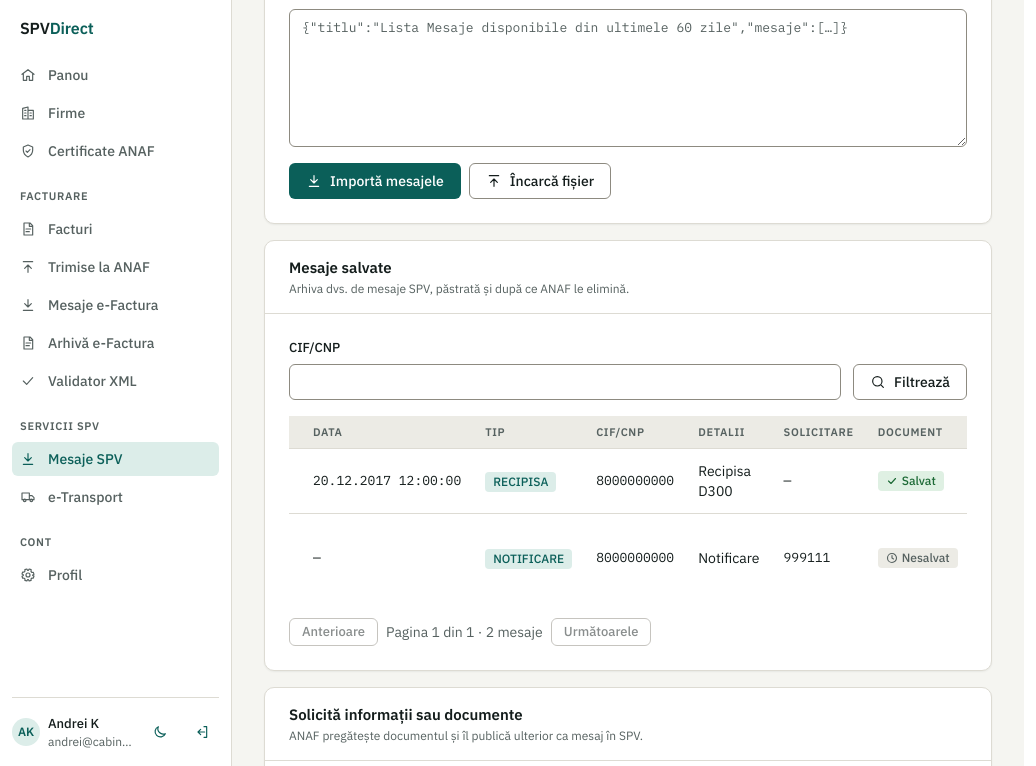
Test: Mesaje SPV › filters the archive by CIF
This screenshot has width=1036, height=766.
(page scrolled)
Type "800 000 0000" into the field labelled "CIF/CNP" at (565, 382), box [289,364,841,400]
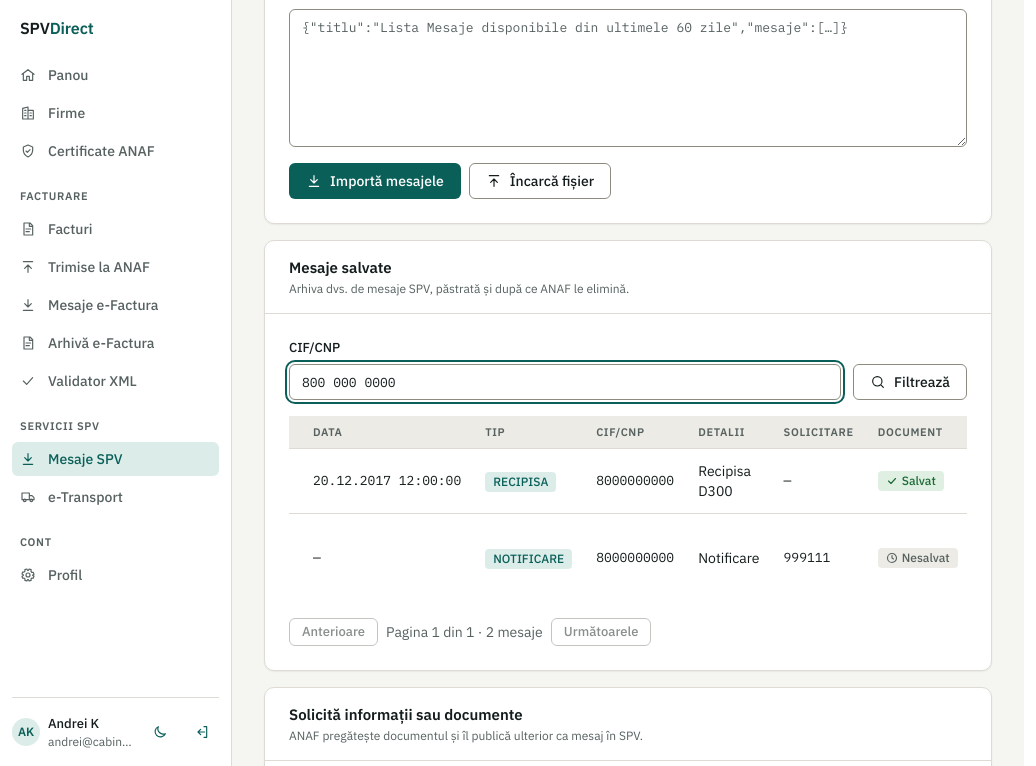
Click the button "Filtrează" at (910, 382), box [853,364,967,400]
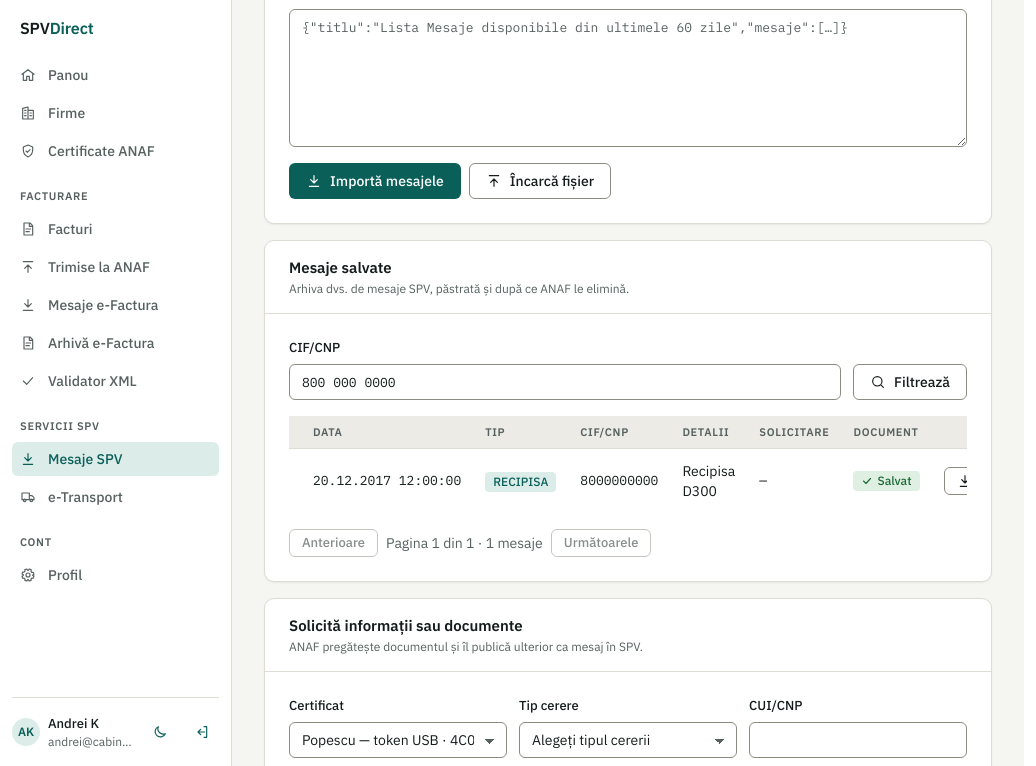
Expected: the text "NOTIFICARE" is gone
